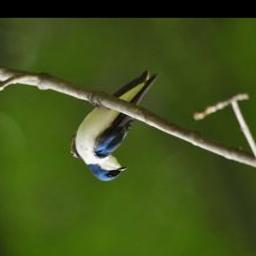Swallow: (70, 70, 160, 183)
